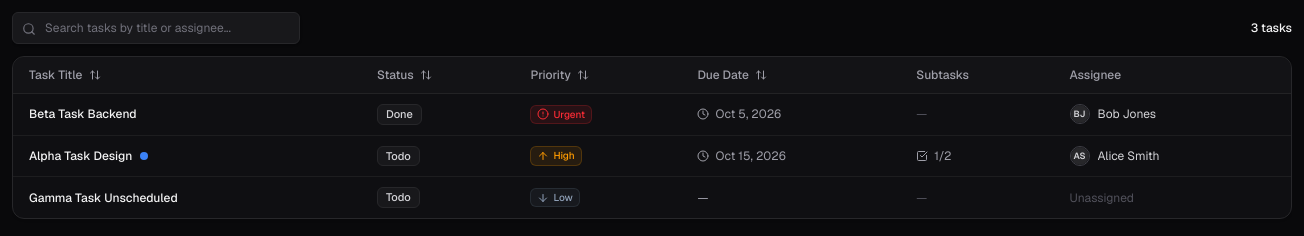
Test: Task Multi-View Frontend Components › TaskListView Component › filters tasks by search input query
Type "Beta" into the field with test id "list-search-input".
click(156, 28); type("Beta")  # box [12,12,300,44]
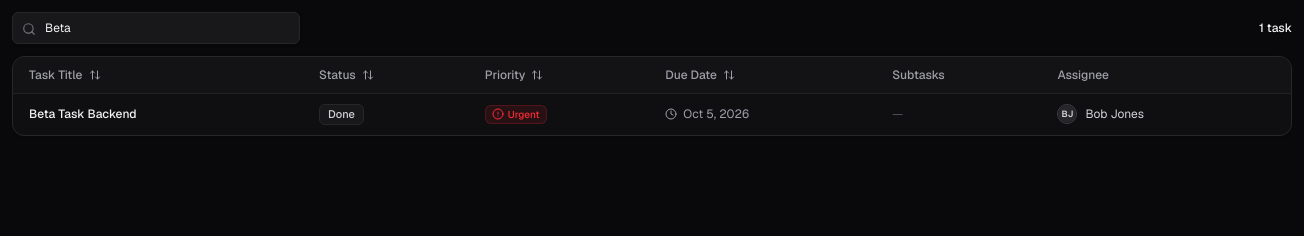
Expected: the text "Beta Task Backend" is shown, [29,106,137,122]
Now the text "Alpha Task Design" is gone
